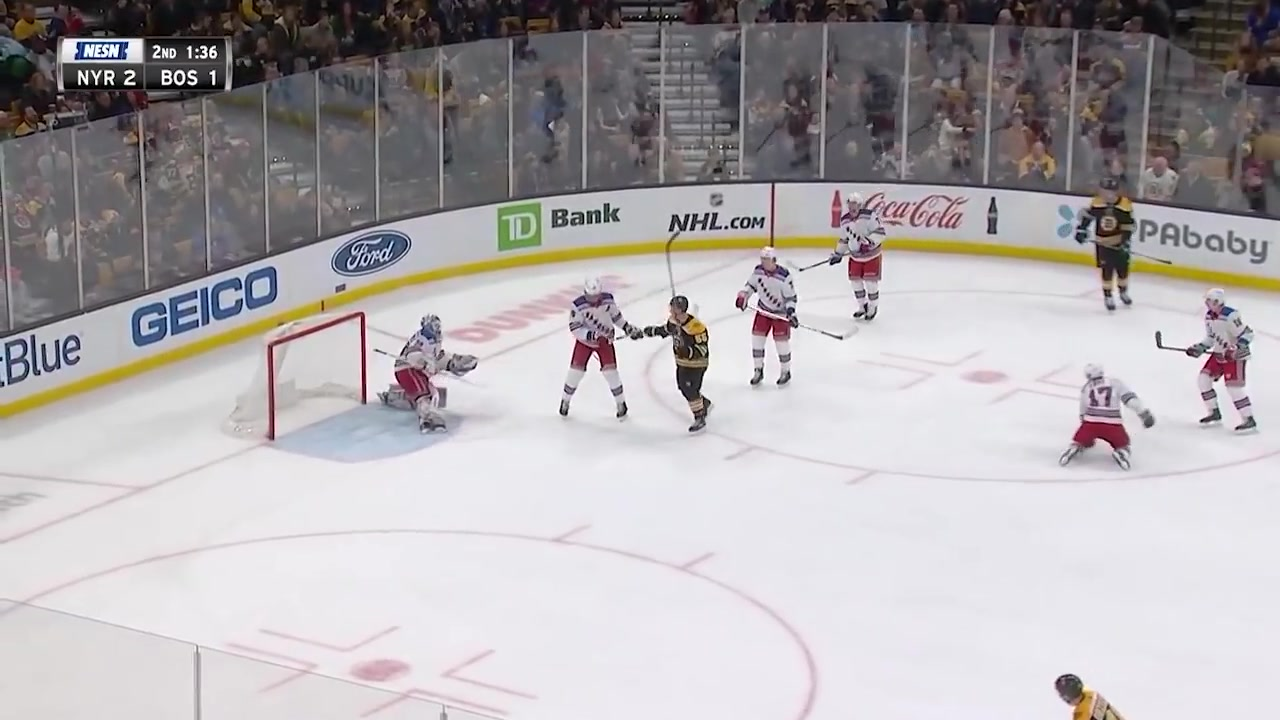Geico: (131, 261, 287, 361)
